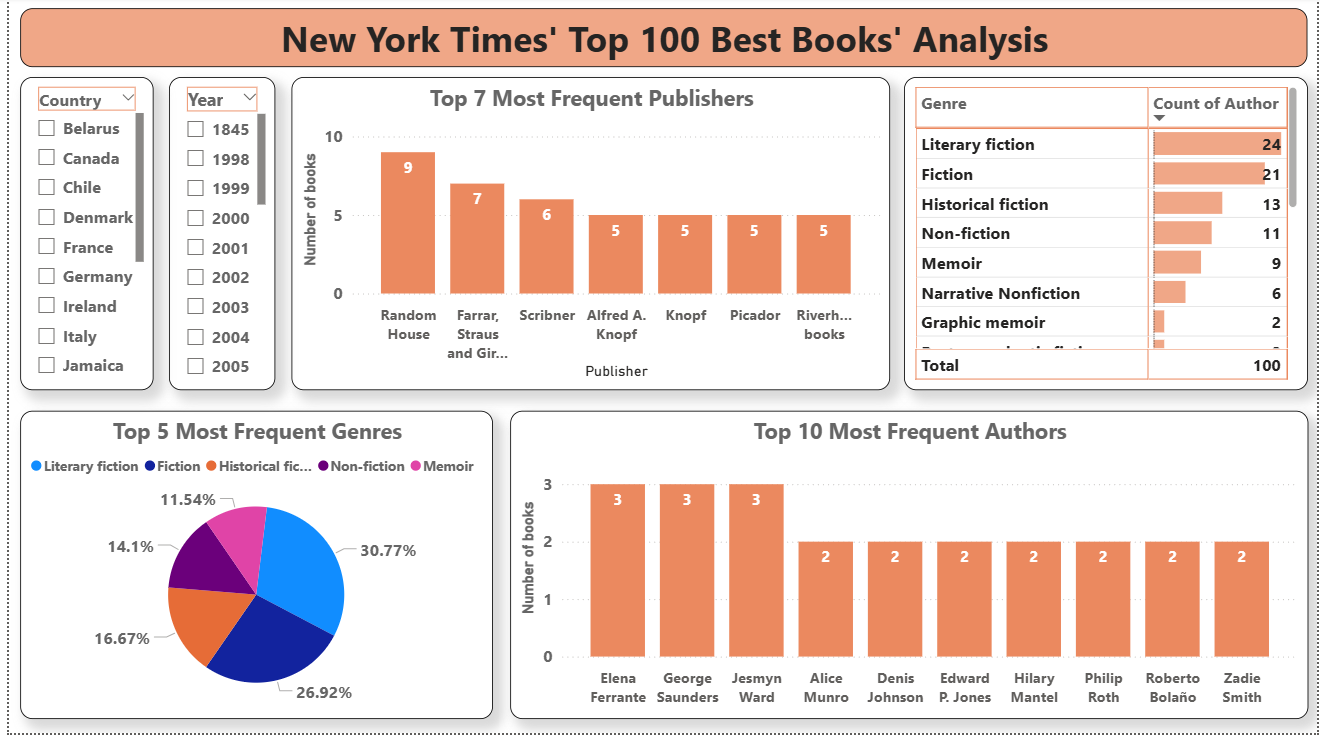

The dashboard page shown, as its layout file describes it:
{"tool":"powerbi","page":{"name":"NYT","canvas":[1280,720],"ordinal":2},"visuals":[{"type":"columnChart","title":"Top 7 Most Frequent Publishers","fields":{"Category":["nyt_100_mustreads.Publisher"],"Y":["CountNonNull(nyt_100_mustreads.Title)"]},"box":[275.8,78.2,585.9,306],"z":0},{"type":"pieChart","title":"Top 5 Most Frequent Genres","fields":{"Category":["nyt_100_mustreads.Genre"],"Y":["CountNonNull(nyt_100_mustreads.Title)"]},"box":[11,404.8,462.4,301.9],"z":1000},{"type":"tableEx","fields":{"Values":["nyt_100_mustreads.Genre","nyt_100_mustreads.Author"]},"box":[875.5,78.2,395.2,306],"z":2000},{"type":"slicer","fields":{"Values":["nyt_100_mustreads.Year"]},"box":[156.4,78.2,104.3,306],"z":3000},{"type":"slicer","fields":{"Values":["nyt_100_mustreads.Country"]},"box":[11,78.2,130.4,306],"z":4000},{"type":"textbox","title":"New York Times'' Top 100 Best Books'' Analysis","box":[11,11,1259.5,57.5],"z":5000},{"type":"columnChart","title":"Top 10 Most Frequent Authors","fields":{"Category":["nyt_100_mustreads.Author"],"Y":["CountNonNull(nyt_100_mustreads.Title)"]},"box":[489.9,404.8,780.8,301.9],"z":6000}]}

Visuals, with their boxes in screenshot pixels (x1, y1, x2, y2), scaled from the page's 1280x720 canvas onto the 1320x737 screenshot:
"Top 7 Most Frequent Publishers" columnChart: left=284, top=80, right=889, bottom=393
"Top 5 Most Frequent Genres" pieChart: left=11, top=414, right=488, bottom=723
tableEx - nyt_100_mustreads.Genre x nyt_100_mustreads.Author: left=903, top=80, right=1310, bottom=393
slicer - nyt_100_mustreads.Year: left=161, top=80, right=269, bottom=393
slicer - nyt_100_mustreads.Country: left=11, top=80, right=146, bottom=393
"New York Times'' Top 100 Best Books'' Analysis" textbox: left=11, top=11, right=1310, bottom=70
"Top 10 Most Frequent Authors" columnChart: left=505, top=414, right=1310, bottom=723
